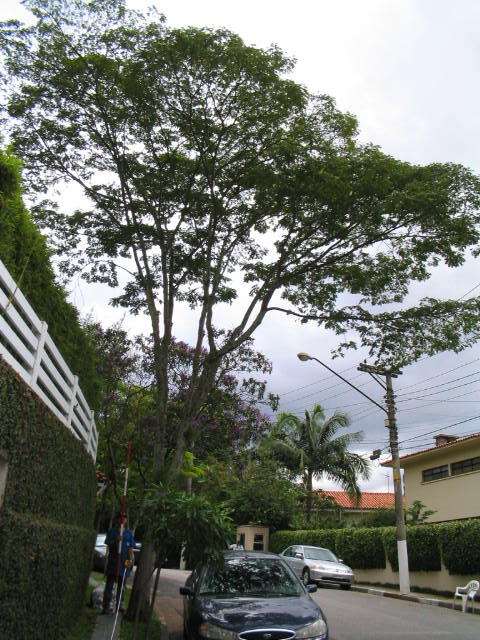crown: (5, 23, 477, 388)
stem: (128, 487, 173, 618)
stick: (104, 442, 133, 614)
tree: (4, 21, 477, 619)
